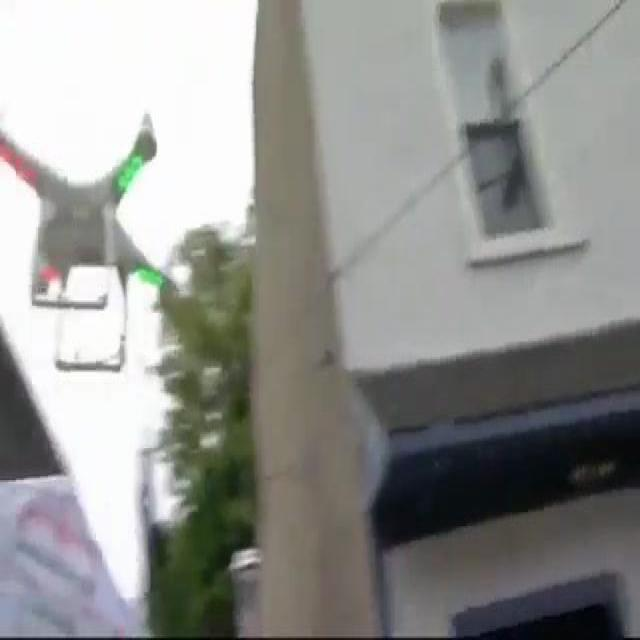UAV: (0, 112, 177, 375)
